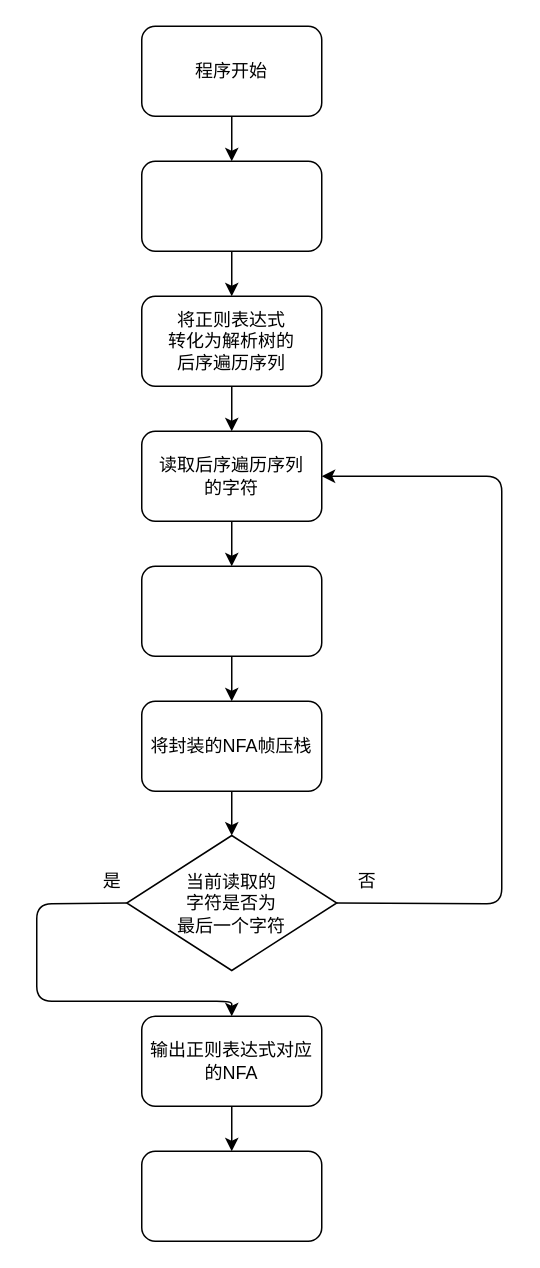
Some shapes in this 540 by 1268 pixel diagram are drawn without their labels. Each missing label, with the box of its shape:
程序结束: (140, 1150, 322, 1241)
读取正则表达式: (140, 160, 322, 251)
采用汤普生架构封装正则表达式的字符和操作: (140, 565, 322, 656)
